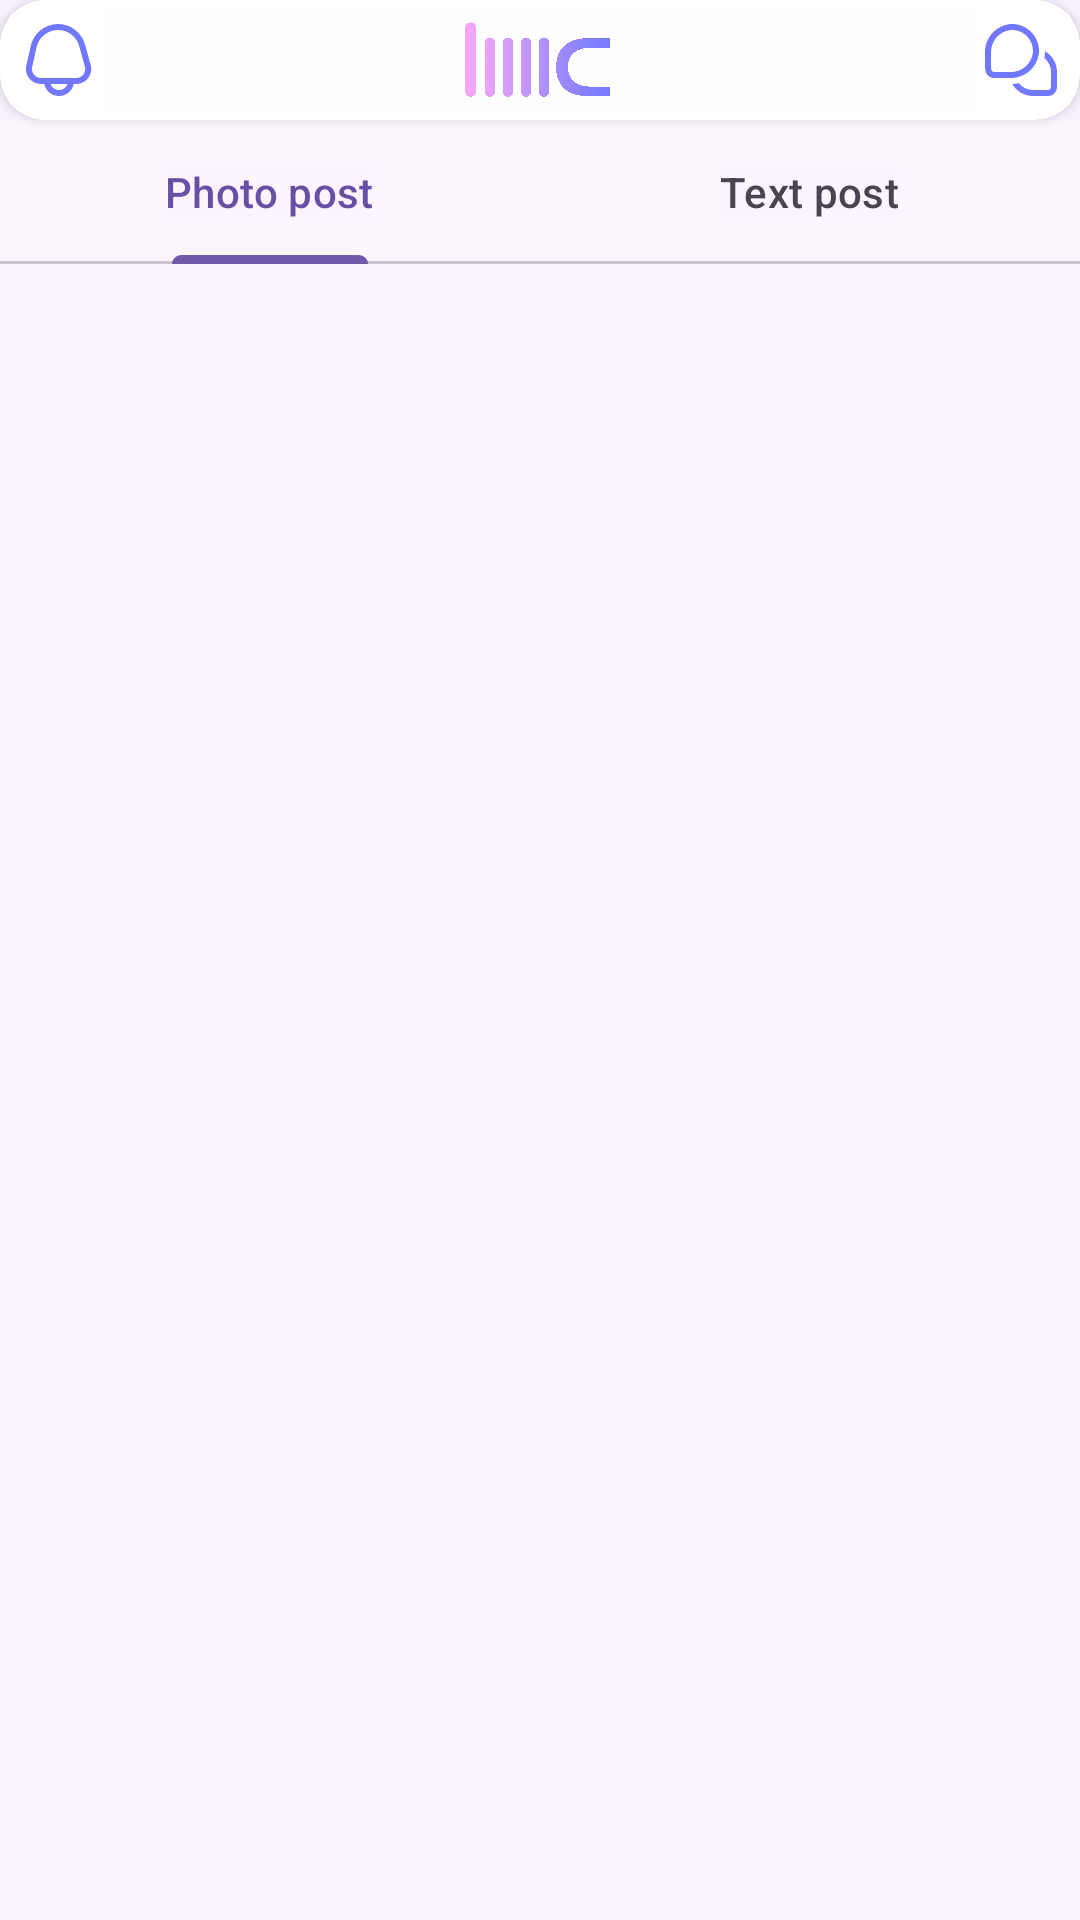

Named icons in this screenshot (1080×1920) and their bounding boxes, (x1, y1, x2, y2):
Messages: (985, 24, 1057, 96)
Notifications: (26, 24, 92, 96)
